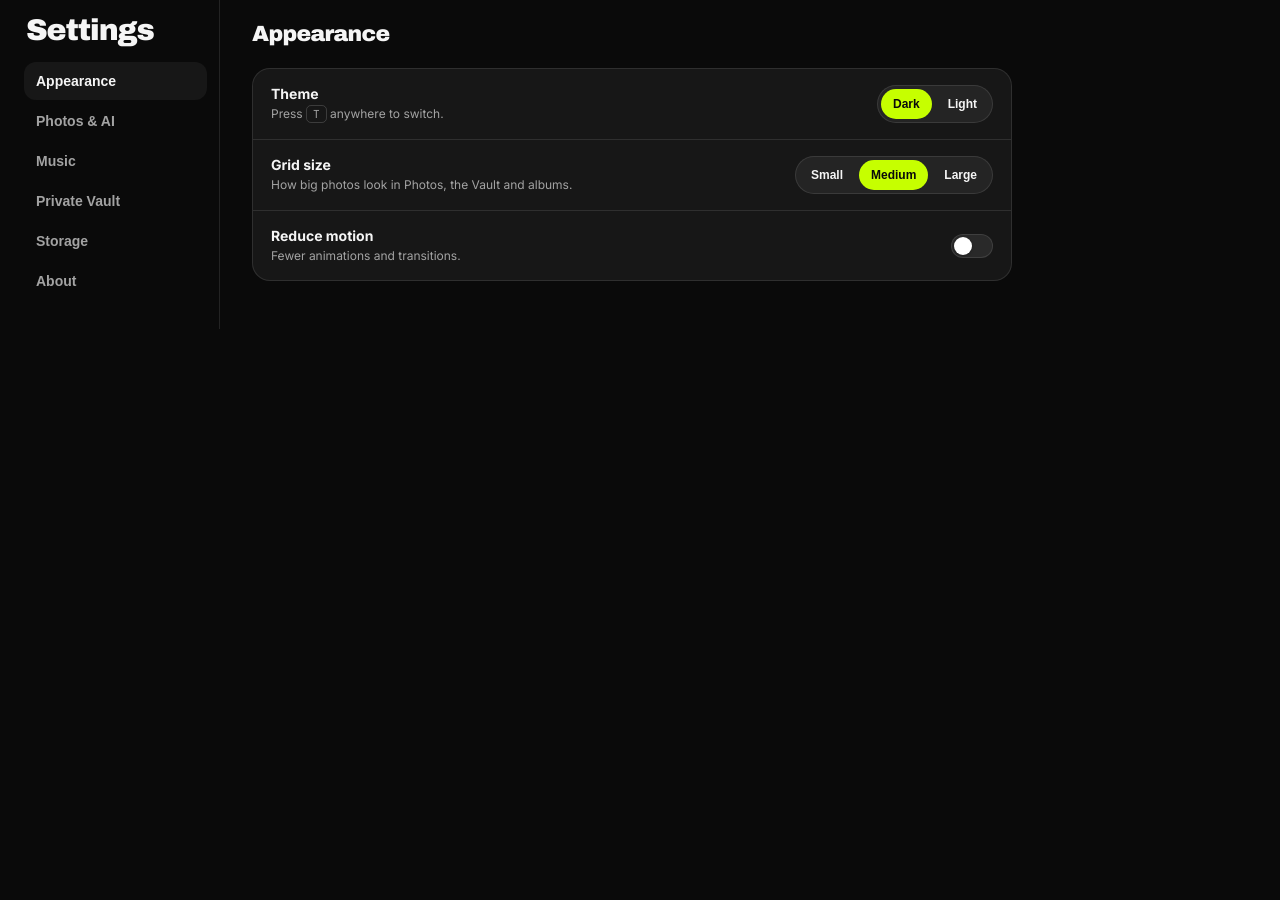
Settings layout › lists the sections on the left and opens one at a time
The width and height of the screenshot is (1280, 900).
Expected: the heading "Appearance" is shown, [252,22,390,46]
Click the button "Private Vault": (116, 201) [24,182,207,220]
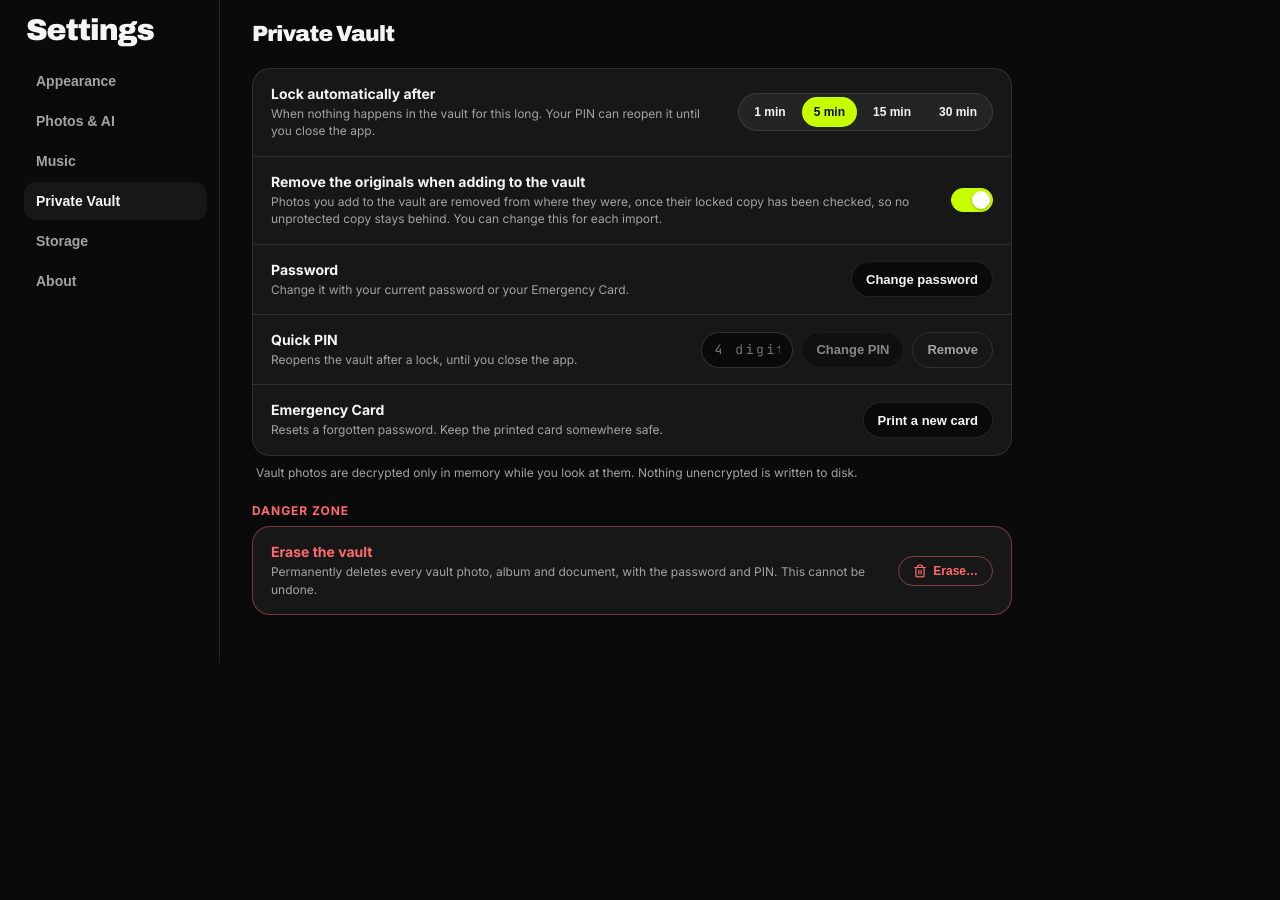
Expected: the text "Lock automatically after" is shown, [271,85,436,102]
Click the button "Photos & AI": (116, 121) [24,102,207,140]
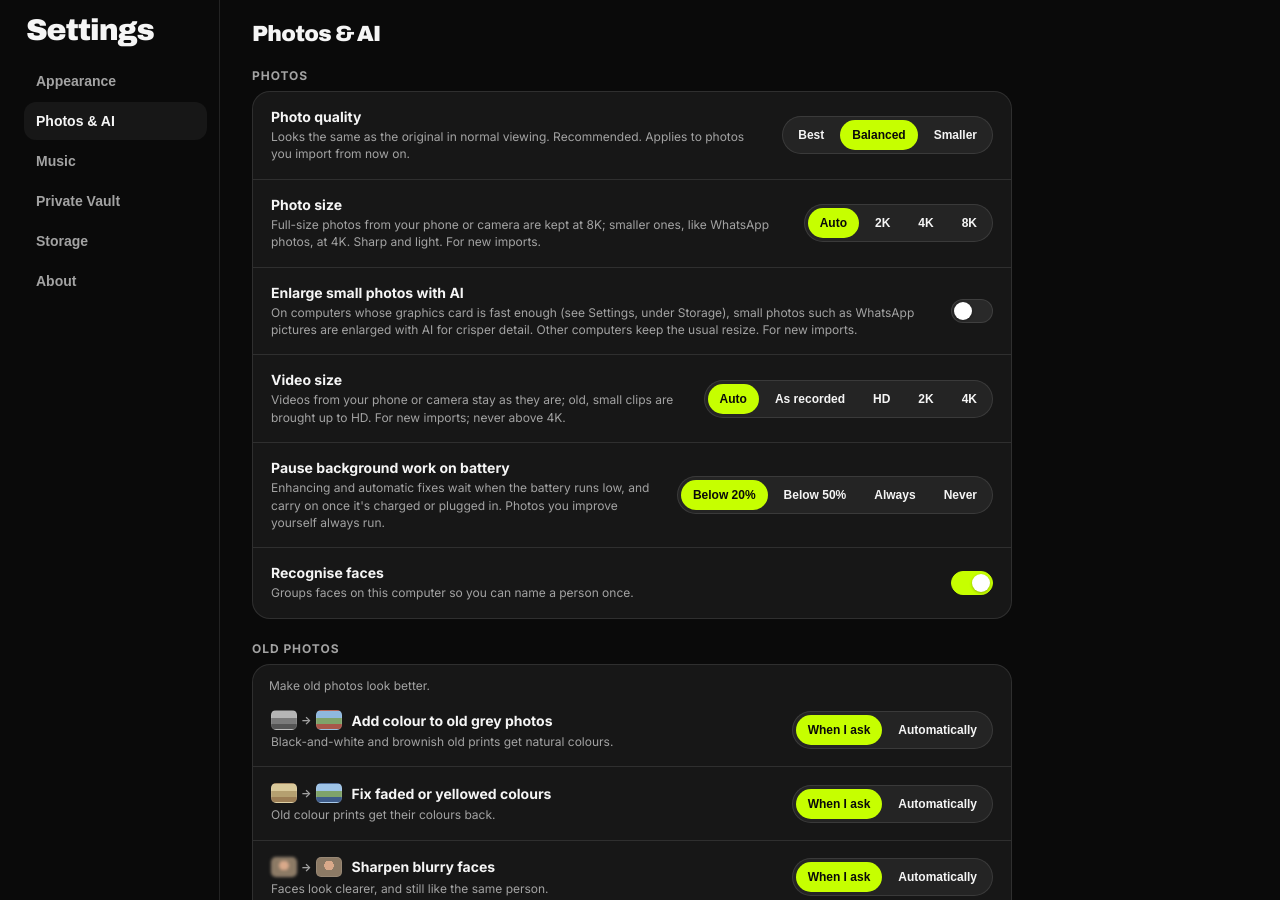
Expected: the element named "Pause background work on battery" is shown, [677,476,993,514]
# Music has its own section (round 2, #6).
Click the button "Music": (116, 161) [24,142,207,180]
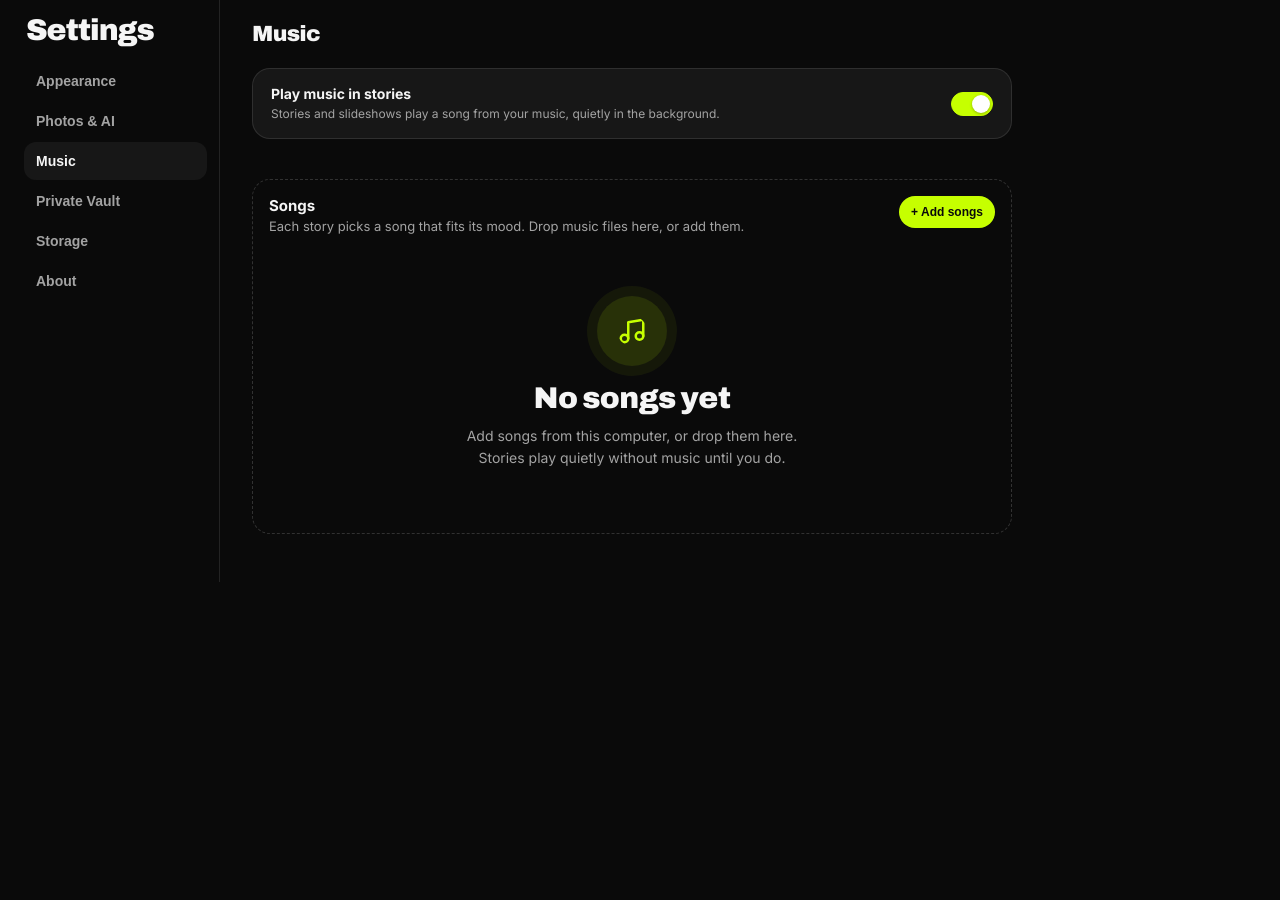
Expected: the switch named "Play music in stories" is shown, [951,92,993,116]
Expected: the element "Songs" is shown, [252,179,1012,534]
